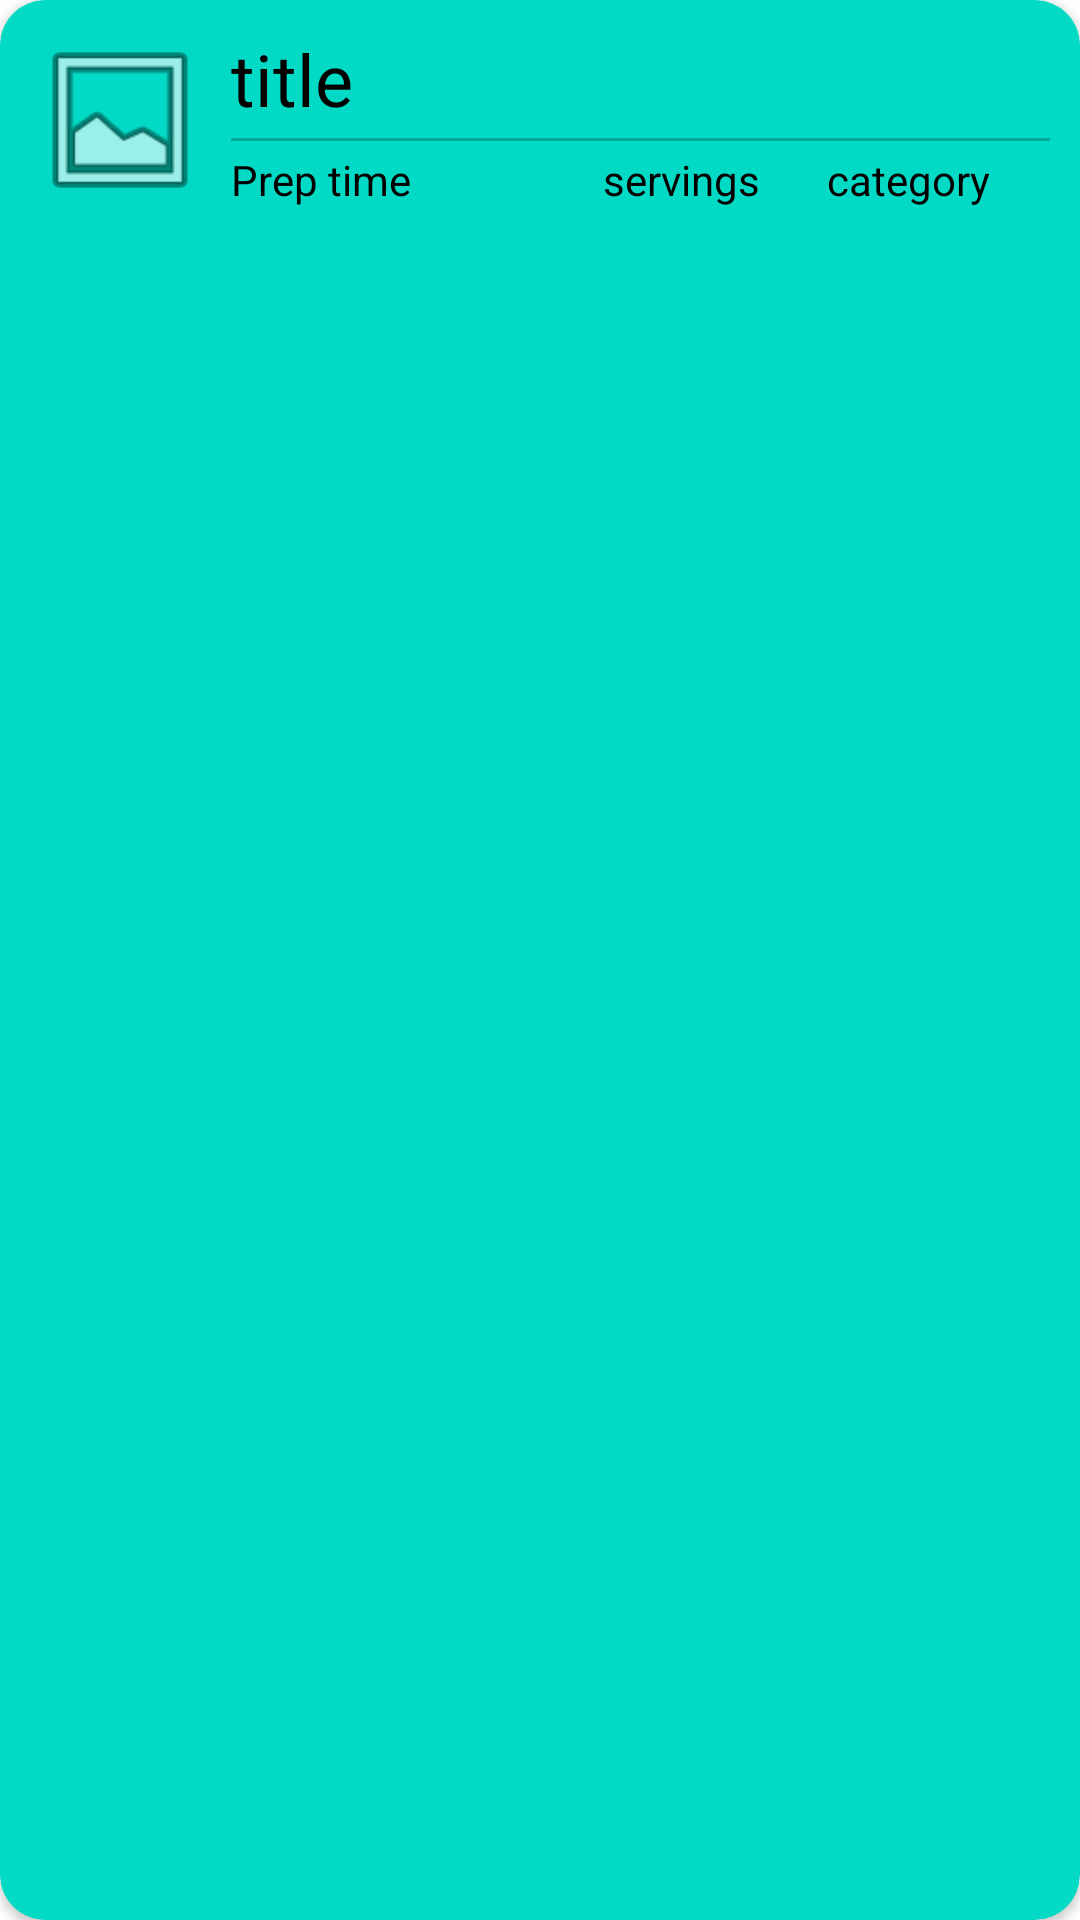

Named icons in this screenshot (1080x1920) and their centers, [x,y]:
gallery: [120,120]
